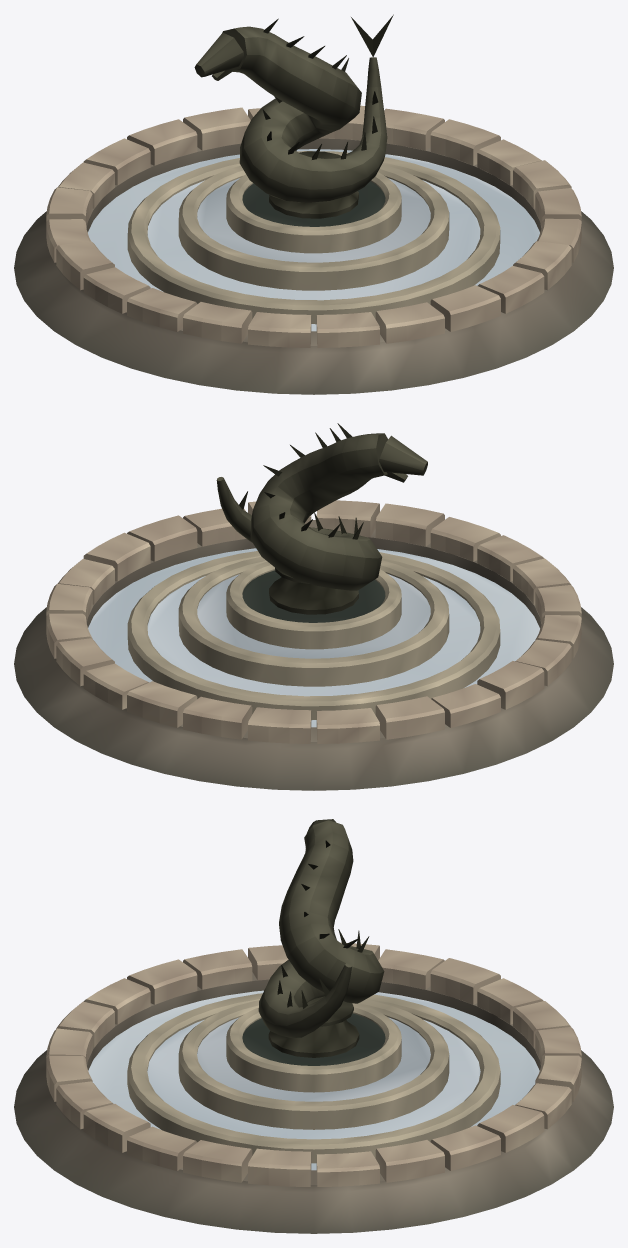
Rendered from VerFountain01.glb.
3 renders of one model, top to bottom at view 1: azimuth 30°, elevation 25°; view 2: azimuth 150°, elevation 25°; view 3: azimuth 270°, elevation 25°, orthographic.
Visible parts, largest first — view 1: VerFountain01; view 2: VerFountain01; view 3: VerFountain01.
Part boxes in pixels (x1=…): VerFountain01: x1=14, y1=14, x2=613, y2=394; VerFountain01: x1=14, y1=423, x2=613, y2=790; VerFountain01: x1=14, y1=819, x2=613, y2=1233.
Bounding box in the file's own units: 8.2 × 3.81 × 8.2.
